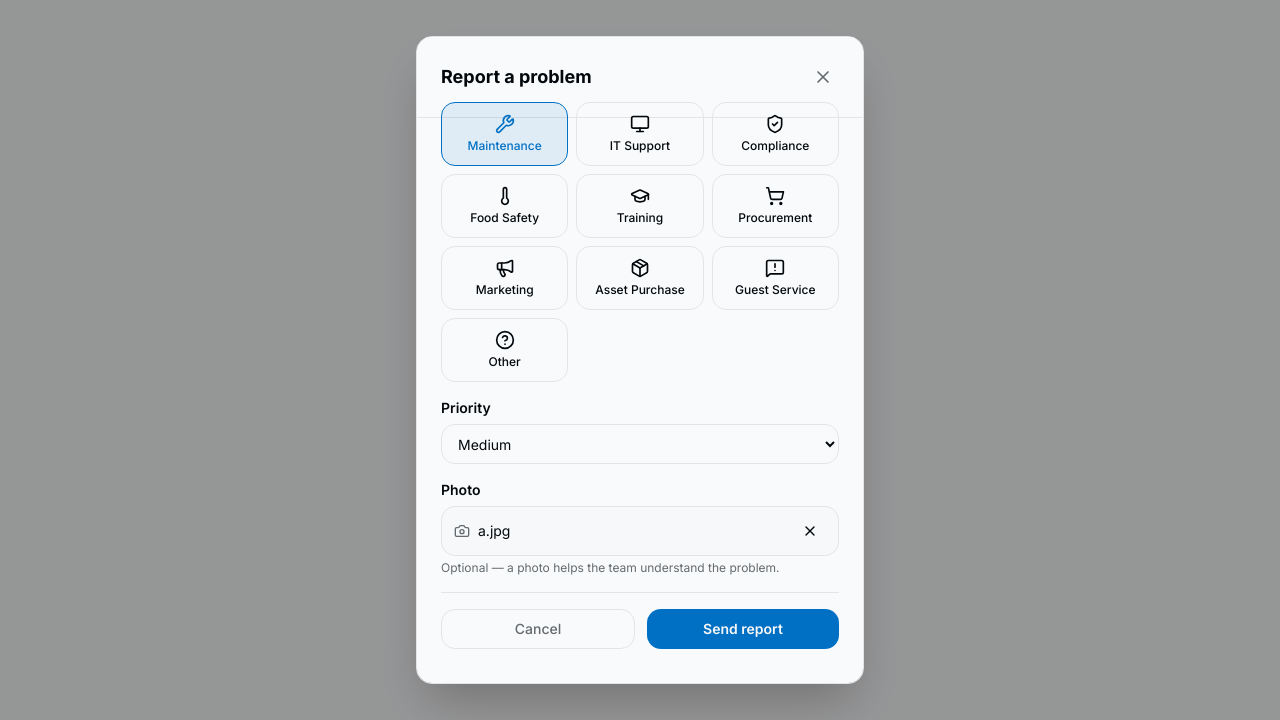
Test: quick report mode (Todo-Pilot §20) › says a queued photo will upload later — the report is still sent
Earlier steps of the test are not shown.
(page scrolled)
What coordinates should you click on to do the following:
click the button "Send report"
I would click on:
 (743, 629)
Its box is [647, 609, 839, 649].
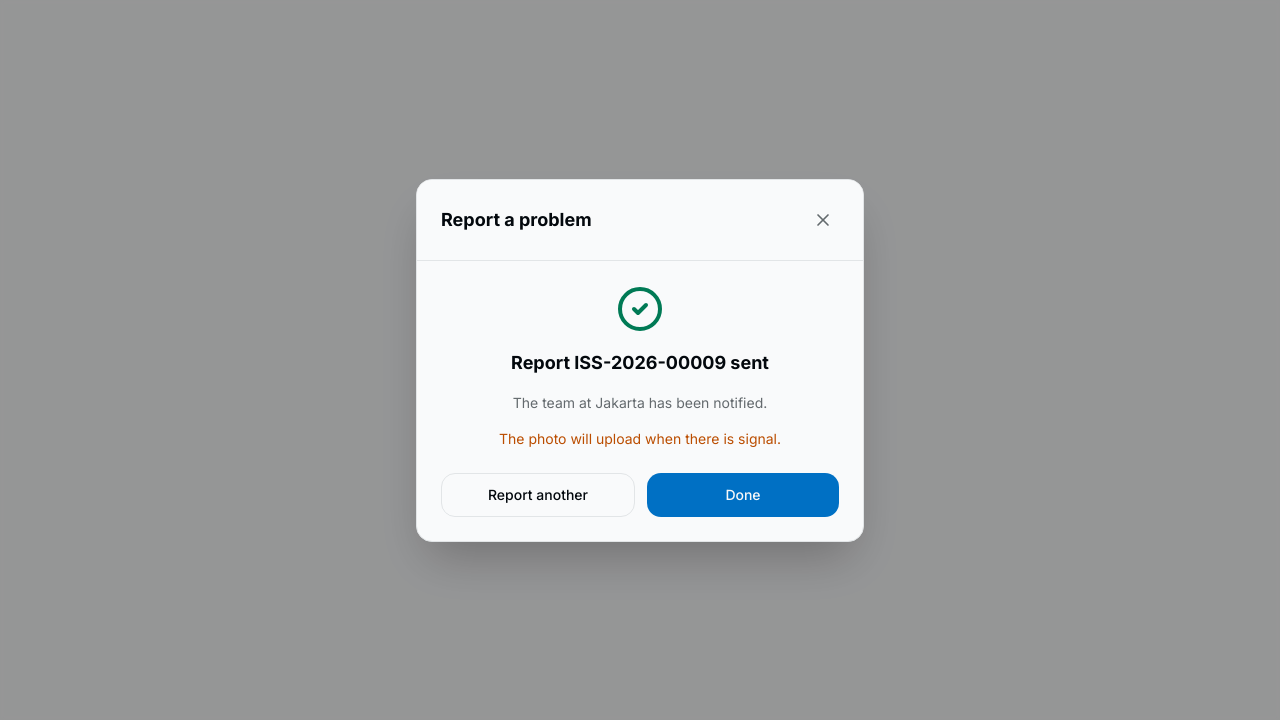
Expected: the text "The photo will upload when there is signal." is shown, [499, 430, 781, 446]
